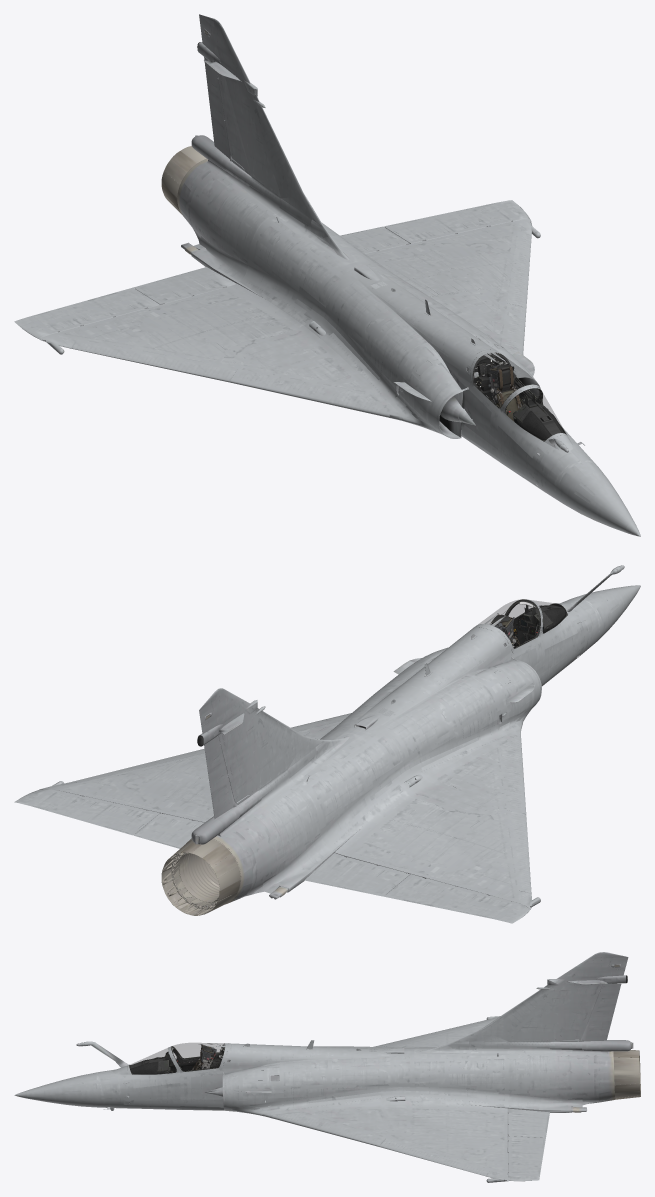
Rendered from chasseur_5f_realiste.web.glb.
3 renders of one model, top to bottom at view 1: azimuth 30°, elevation 25°; view 2: azimuth 150°, elevation 25°; view 3: azimuth 270°, elevation 25°, orthographic. The views are drawn at different scales.
Parts seen in each view (by area): view 1: chasseur; view 2: chasseur; view 3: chasseur.
Part boxes in pixels (box(x1,y1,x2,y2)): chasseur: box(14, 14, 640, 536); chasseur: box(14, 565, 640, 923); chasseur: box(14, 952, 640, 1182).
Bounding box in the file's own units: 9.12 × 4.2 × 14.3.
7 materials, 3 textured.
